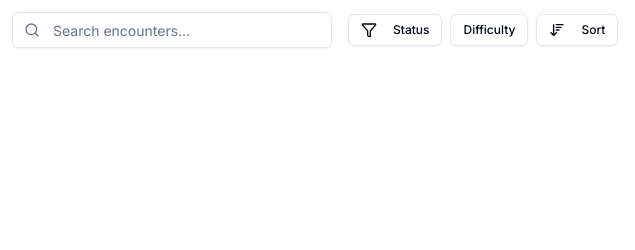
Test: EncounterFilters › Status Filter › opens status filter dropdown
Click the button "Status": (395, 30) [348,14,442,46]
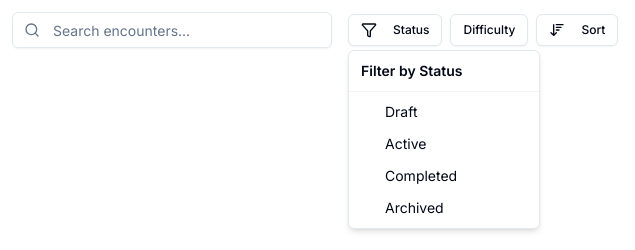
Now the text "Filter by Status" is shown, box [361,62,463,79]
Now the menu item "Draft" is shown, box [385,103,418,120]
Now the menu item "Active" is shown, box [385,135,426,152]
